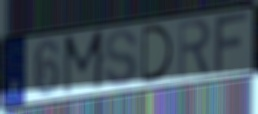6: (33, 38, 61, 99)
D: (141, 22, 176, 86)
F: (213, 10, 251, 78)
M: (61, 28, 107, 98)
R: (177, 17, 213, 82)
S: (103, 28, 139, 89)
